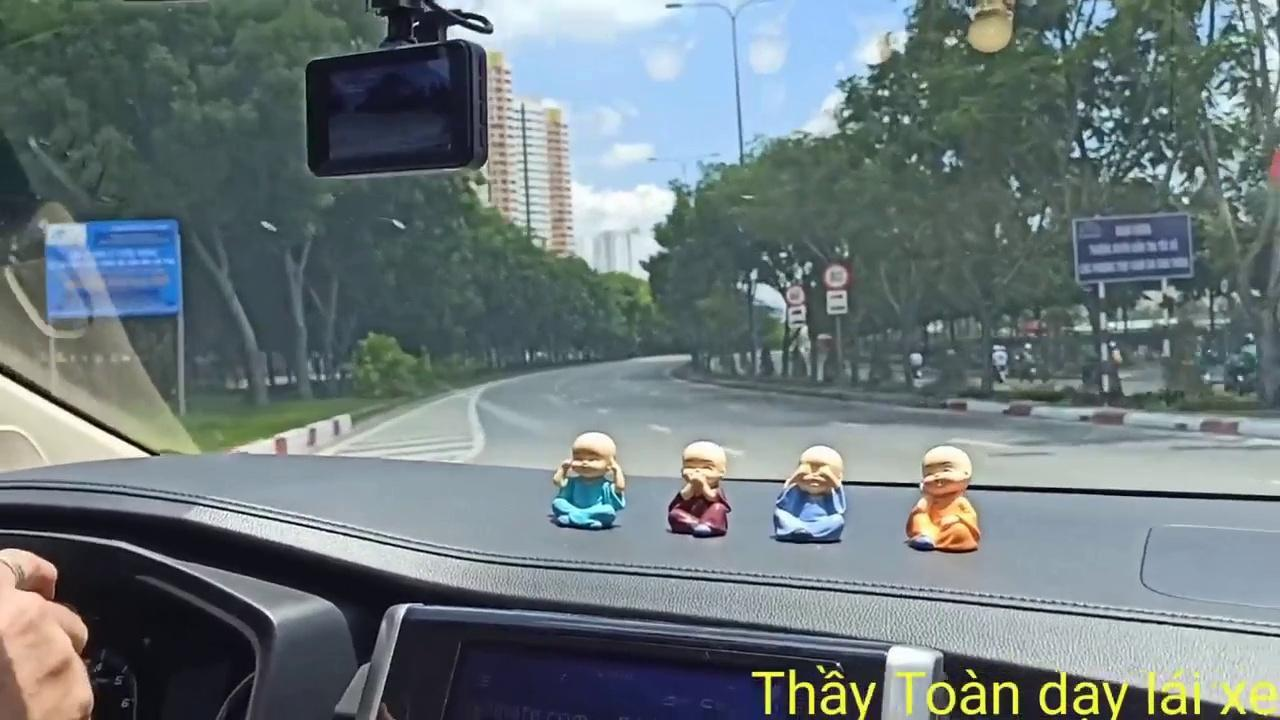Biển phụ: (824, 289, 848, 315), (787, 305, 807, 329)
Khác: (42, 218, 178, 319)
